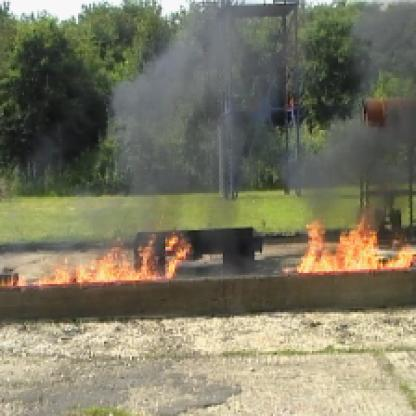Fire: (2, 225, 199, 293), (282, 197, 414, 277)
Smoke: (108, 2, 269, 199), (286, 2, 414, 189)
